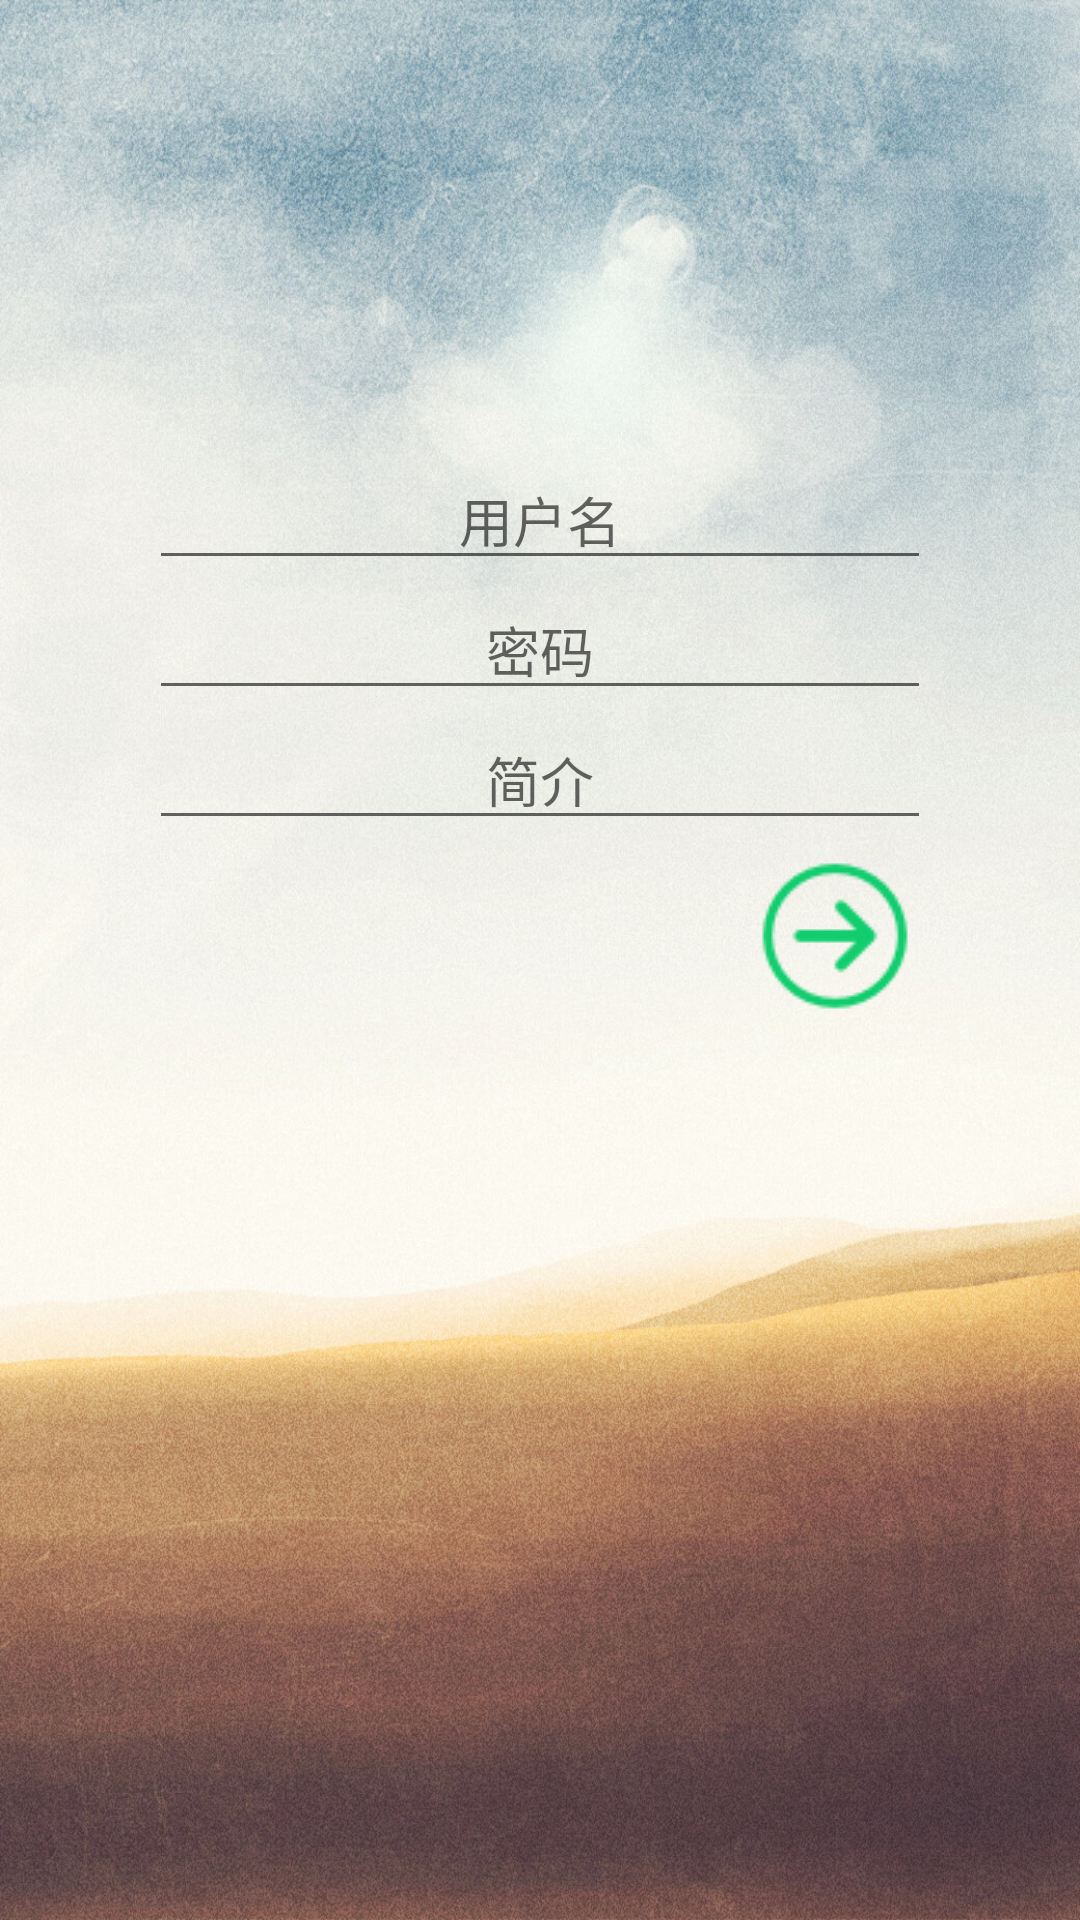

Where icons sit on this 1080 × 1920 app screen, as (x1, y1, x2, y2):
right: (762, 863, 908, 1009)
